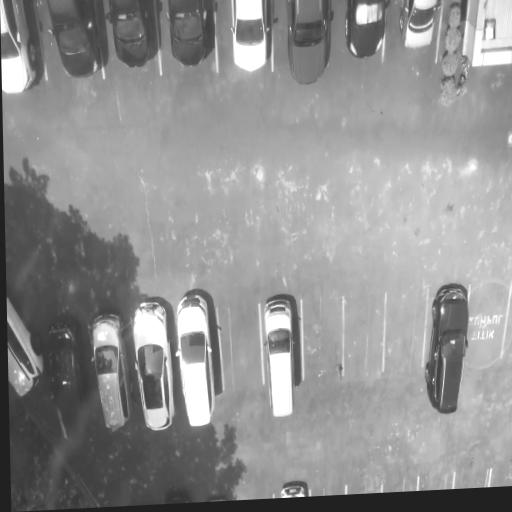Car: (420, 278, 475, 421), (129, 296, 176, 436), (177, 291, 218, 435), (261, 296, 305, 428), (45, 0, 107, 93), (90, 305, 131, 442), (46, 318, 89, 443), (6, 288, 51, 406), (0, 0, 52, 97), (286, 0, 333, 97), (108, 0, 162, 78), (170, 0, 221, 76), (346, 0, 388, 76), (231, 0, 272, 74), (401, 0, 443, 58), (275, 479, 310, 498)
Space Available: (220, 298, 263, 420), (298, 296, 348, 399), (468, 286, 512, 387), (382, 298, 429, 392), (345, 299, 388, 393), (311, 473, 352, 496), (451, 467, 492, 489), (416, 472, 455, 491), (346, 475, 382, 495), (384, 474, 420, 493), (487, 469, 512, 487)
